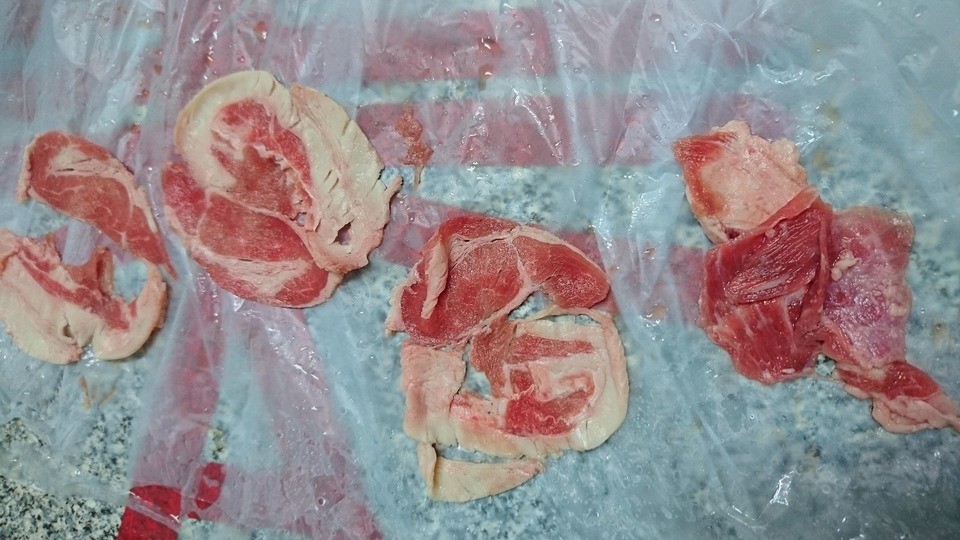restructured meat: (674, 115, 960, 437), (385, 217, 626, 508), (161, 66, 402, 304), (11, 128, 189, 368)
